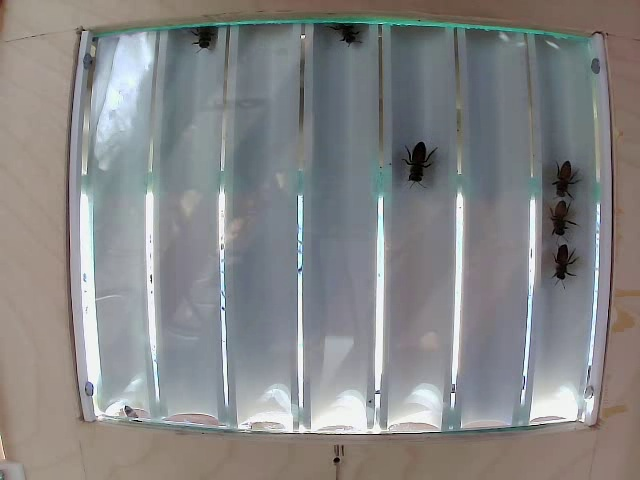bee: (400, 148, 437, 196), (544, 149, 577, 196), (547, 193, 574, 238), (552, 240, 573, 275)
